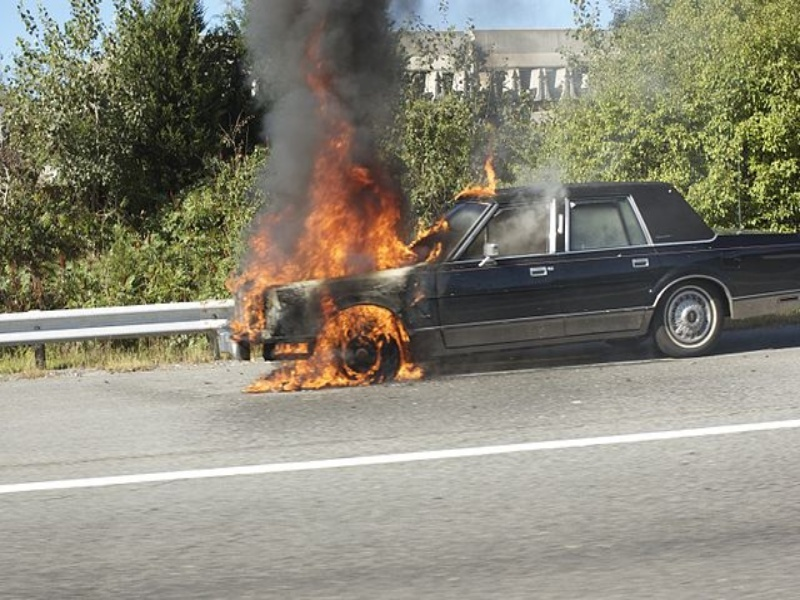smoke: (240, 1, 400, 141)
